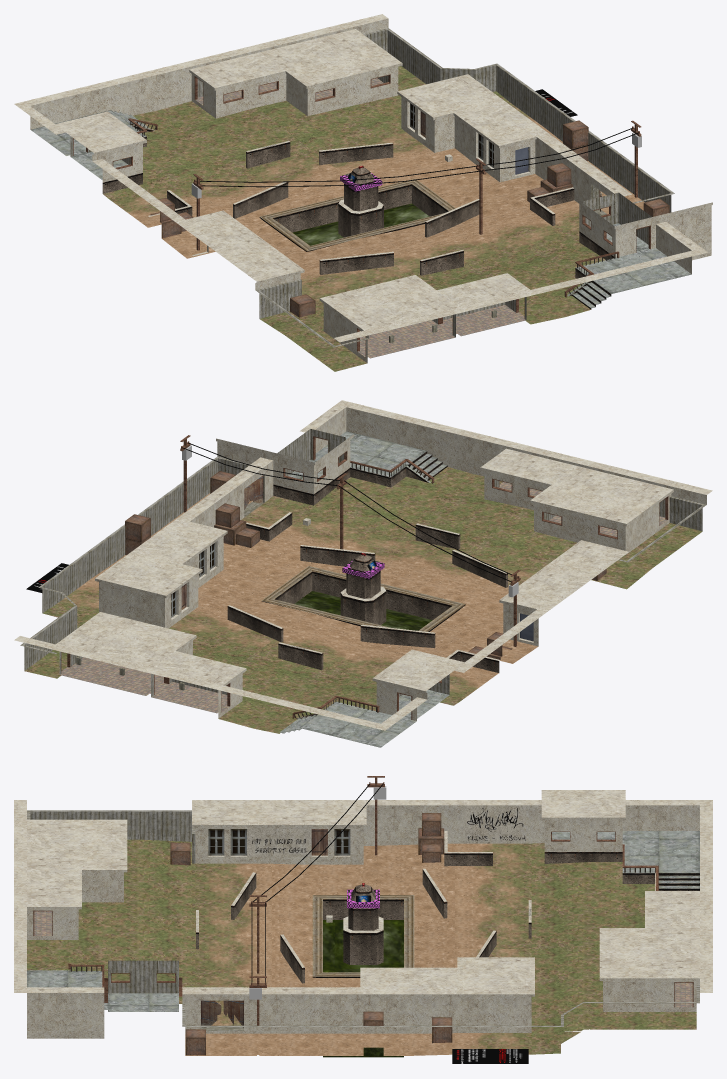
Rendered from aim_kosova_famas.gltf.
The picture shows the model from 3 angles, top to bottom: view 1: azimuth 30°, elevation 25°; view 2: azimuth 150°, elevation 25°; view 3: azimuth 270°, elevation 25°; orthographic projection. The views are drawn at different scales.
Visible parts, largest first — view 1: *0, *14, *13; view 2: *0, *14; view 3: *0, *14.
Boxes of the visible parts, x1,y1,x2,y2 form: *0: [14, 14, 712, 371]; *14: [293, 203, 429, 245]; *13: [200, 166, 483, 187]; *0: [14, 400, 712, 747]; *14: [294, 591, 432, 630]; *0: [14, 776, 712, 1063]; *14: [323, 920, 403, 1057].
Size of the model in its own units: 51.81 by 16.92 by 66.06.
